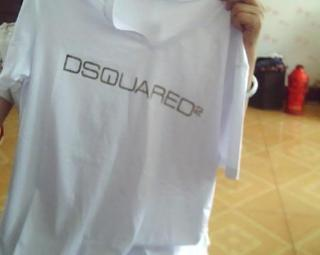short sleeve top: (0, 0, 249, 255)
